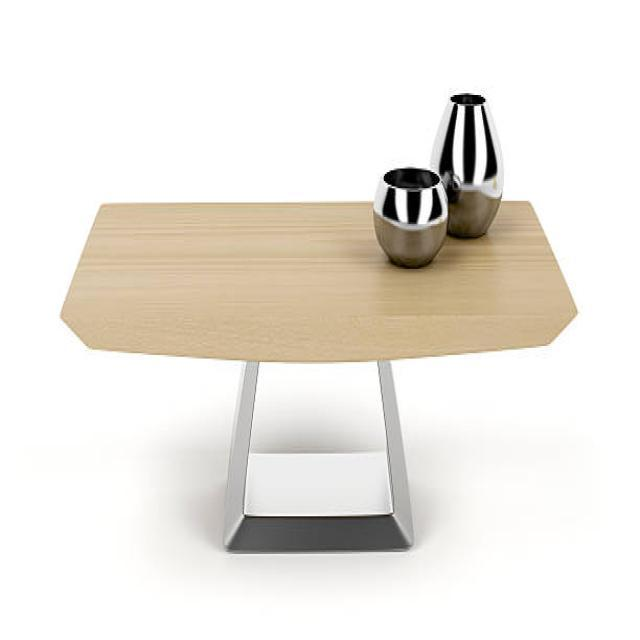table: (60, 195, 578, 552)
